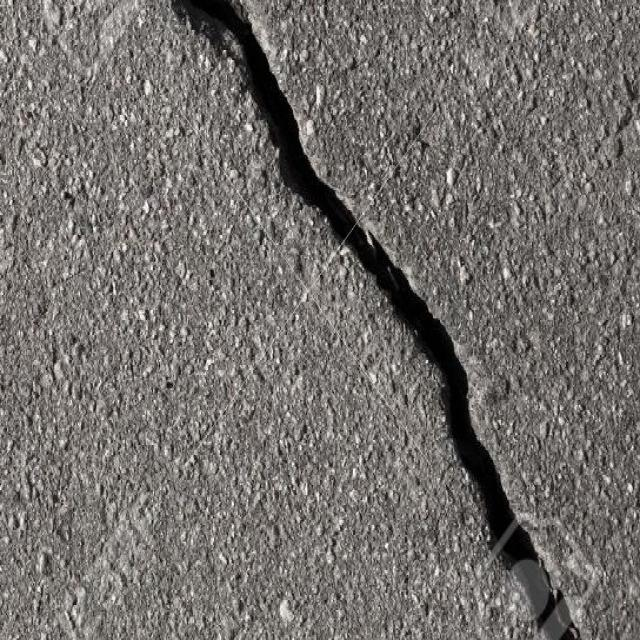Diagonal: (159, 0, 600, 640)
